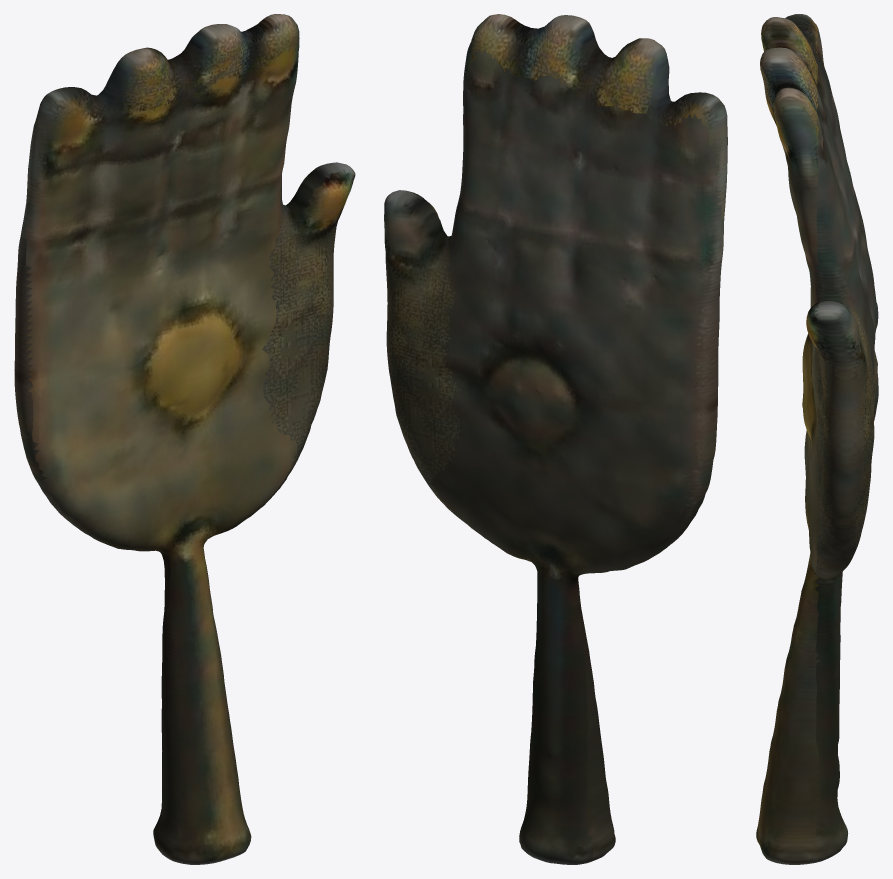
The model's file is kfl-2147.glb.
3 renders of one model, left to right at view 1: azimuth 30°, elevation 25°; view 2: azimuth 150°, elevation 25°; view 3: azimuth 270°, elevation 25°, orthographic. The views are drawn at different scales.
Parts seen in each view (by area): view 1: geometry_0; view 2: geometry_0; view 3: geometry_0.
Part boxes in pixels (left/top/right/bottom): geometry_0: left=14, top=14, right=355, bottom=864; geometry_0: left=384, top=14, right=727, bottom=864; geometry_0: left=756, top=14, right=878, bottom=864.
Size of the model in its own units: 0.4162 by 0.9974 by 0.1374.
1 material, 1 textured.
